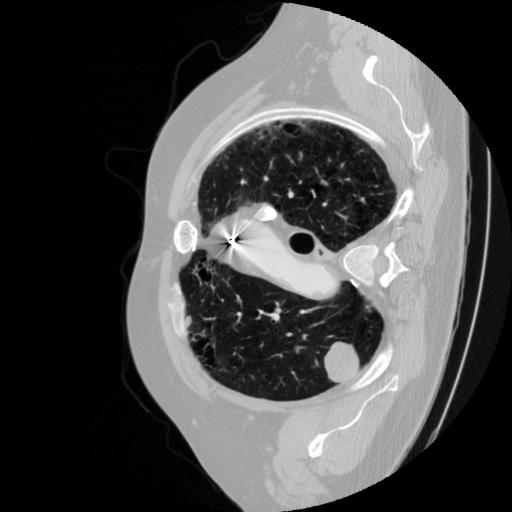nodule: (317, 335, 369, 387)
